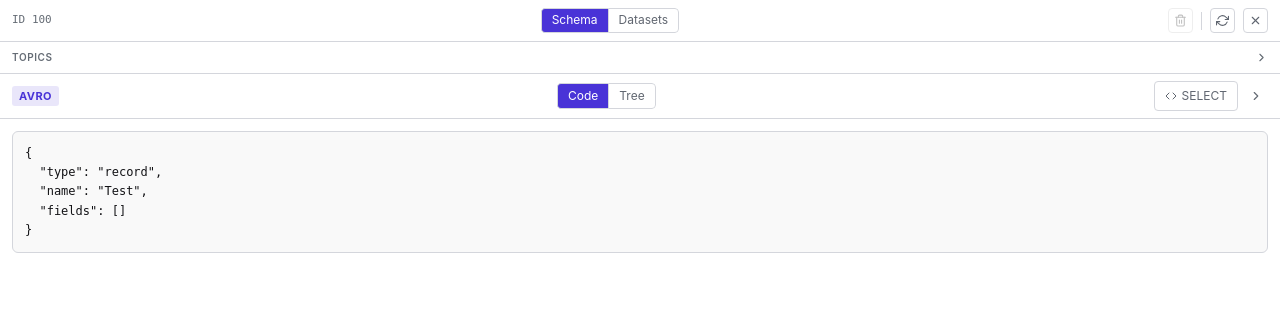
Test: [@schema-detail-layout] Schema/Datasets toggle and header layout › Schema/Datasets top-level toggle › switching to Datasets mode hides VERSION and COMPAT
The image size is (1280, 315).
Expand schema controls first, then switch to Datasets to confirm they disappear
Click the button named "Toggle schema controls". click: [1256, 96]
box: left=1244, top=84, right=1268, bottom=108
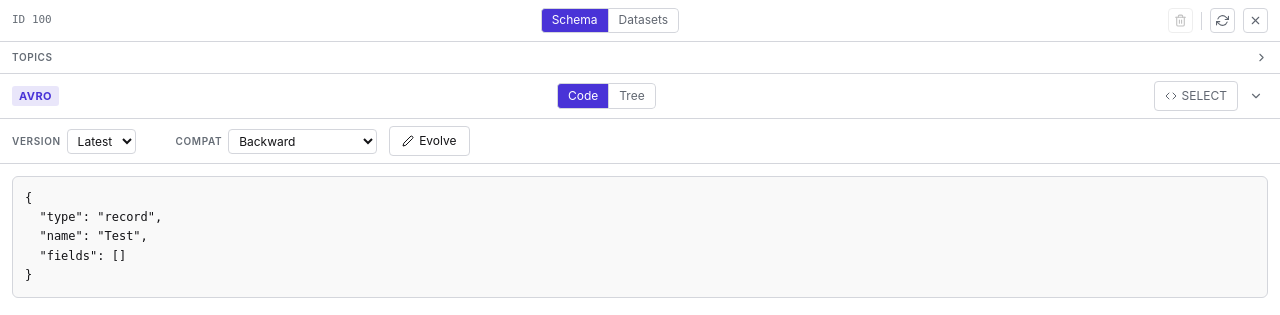
Expected: the text "Version" is shown, left=12, top=134, right=61, bottom=148
Click the button "Datasets". click: [643, 20]
box: left=608, top=8, right=679, bottom=33
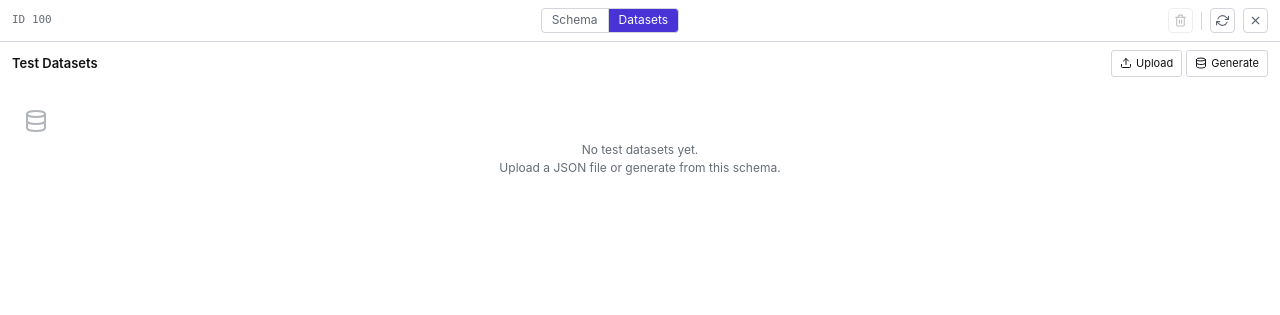
Expected: the text "Version" is gone
Expected: the text "Compat" is gone
